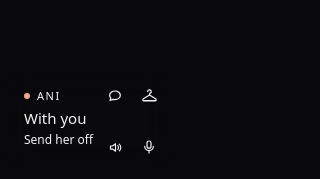
AniCorner › has no Bare in the wardrobe while the switch is off
Click the button named "Outfit".
click(149, 95)  # box top-left (134, 80), bottom-right (164, 110)
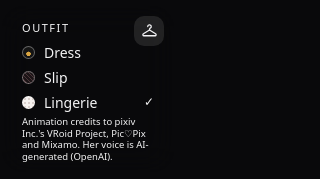
Check: the button "Lingerie ✓" is shown, box top-left (16, 90), bottom-right (160, 114)
